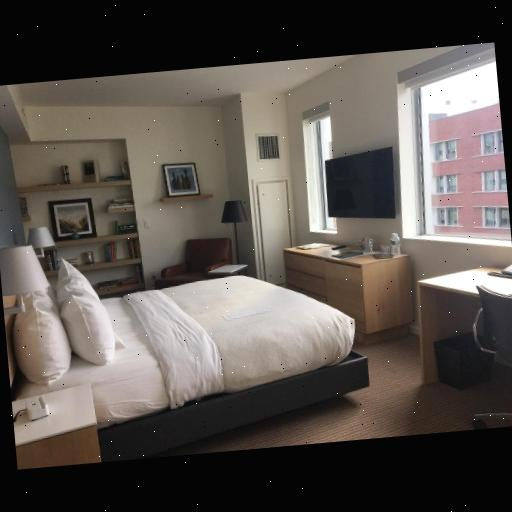chair: (461, 284, 512, 406), (143, 230, 236, 294)
clean_bed: (18, 260, 371, 455)
lamp: (210, 194, 254, 266)
organised_pillow: (2, 252, 117, 384)
organized table: (264, 226, 414, 354), (405, 263, 512, 427)
